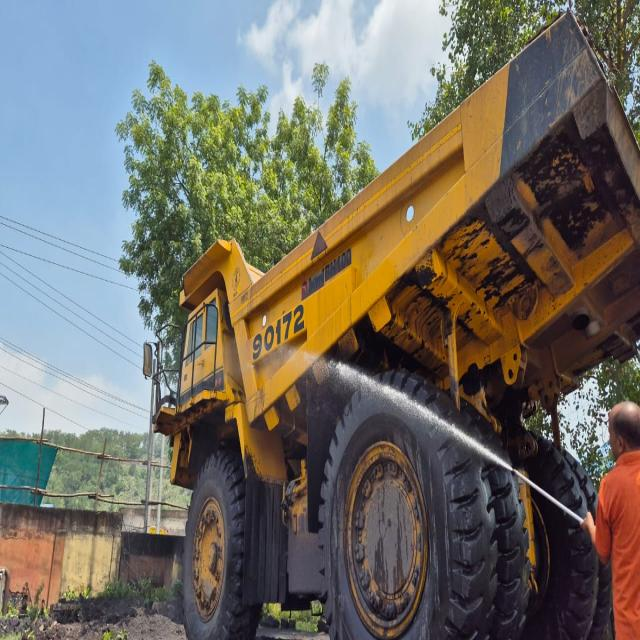dump_truck: (157, 7, 640, 637)
